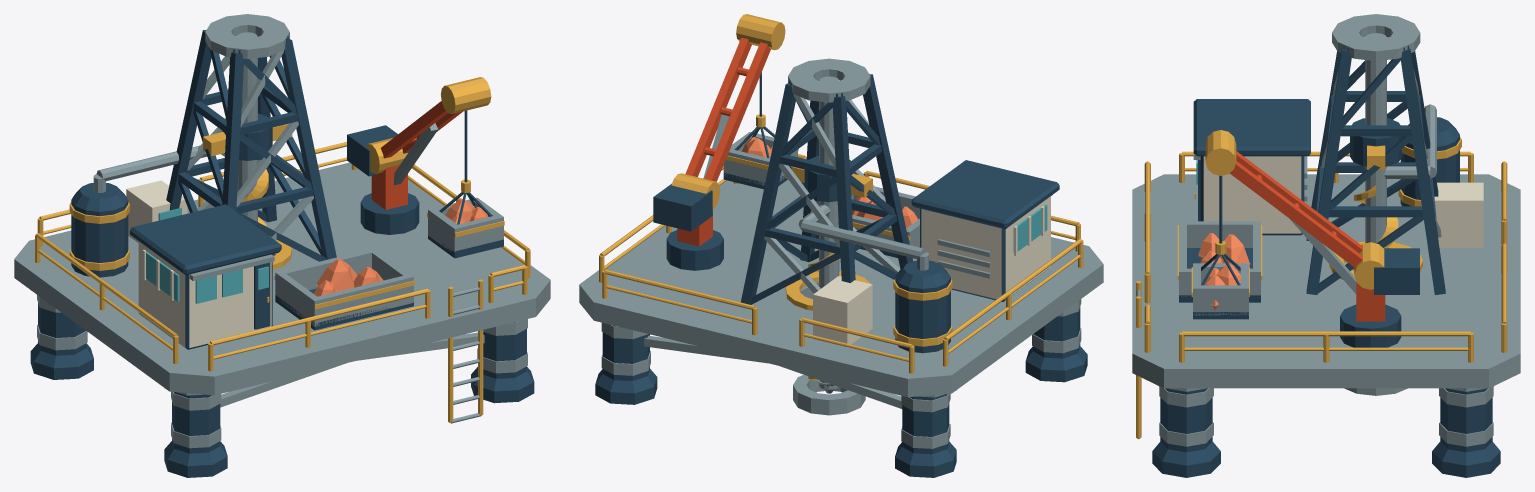
File: ocean-mining-lv2.glb
The picture shows the model from 3 angles, left to right: view 1: azimuth 30°, elevation 25°; view 2: azimuth 150°, elevation 25°; view 3: azimuth 270°, elevation 25°; orthographic projection. The views are drawn at different scales.
Parts seen in each view (by area): view 1: Mining_L2, Suspended_Ore.001, Spindle_And_Auger.001; view 2: Mining_L2, Suspended_Ore.001, Spindle_And_Auger.001; view 3: Mining_L2, Suspended_Ore.001, Spindle_And_Auger.001, Ore_Slings.001.
Boxes of the visible parts, box(x1,y1,x2,y2) form: Mining_L2: box(14, 14, 550, 477); Suspended_Ore.001: box(427, 197, 504, 258); Spindle_And_Auger.001: box(237, 32, 268, 226); Mining_L2: box(579, 14, 1103, 477); Suspended_Ore.001: box(723, 132, 798, 189); Spindle_And_Auger.001: box(808, 76, 841, 393); Mining_L2: box(1132, 14, 1520, 477); Suspended_Ore.001: box(1191, 263, 1249, 319); Spindle_And_Auger.001: box(1354, 33, 1398, 248); Ore_Slings.001: box(1201, 241, 1240, 285).
Size of the model in its own units: 5.1 by 4.24 by 4.3.
